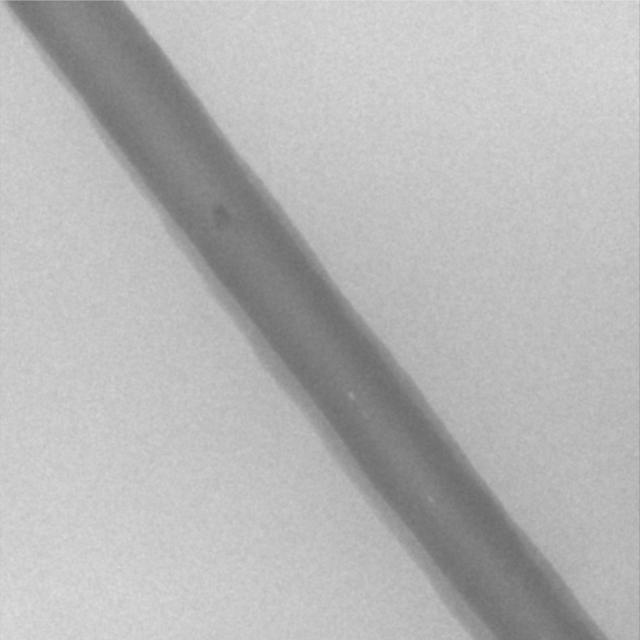air hole: (347, 390, 355, 401), (426, 494, 434, 504)
